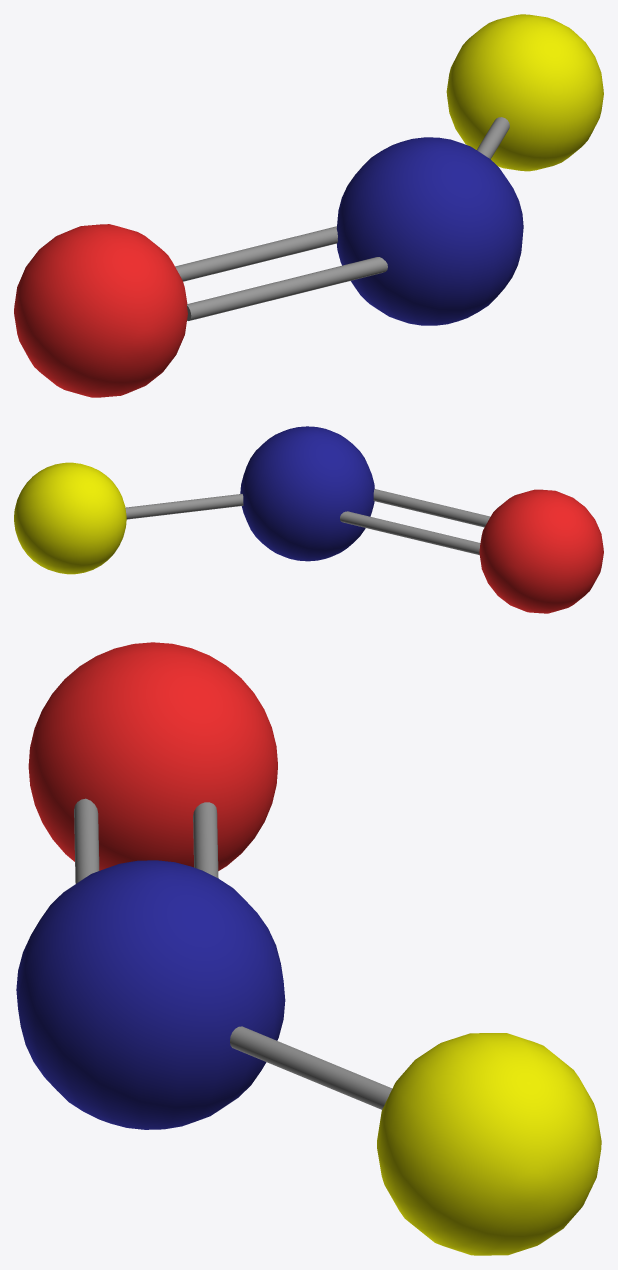
File: HNO.fbx
3 views of the same model, one above another, from view 1: azimuth 30°, elevation 25°; view 2: azimuth 150°, elevation 25°; view 3: azimuth 270°, elevation 25° (orthographic). The views are drawn at different scales.
Visible parts, largest first — view 1: HNO; view 2: HNO; view 3: HNO.
Part boxes in pixels (x1,y1,x2,y2): HNO: (14,14,603,397); HNO: (14,426,603,613); HNO: (16,642,601,1255).
Size of the model in its own units: 8.38 by 2 by 4.33.
